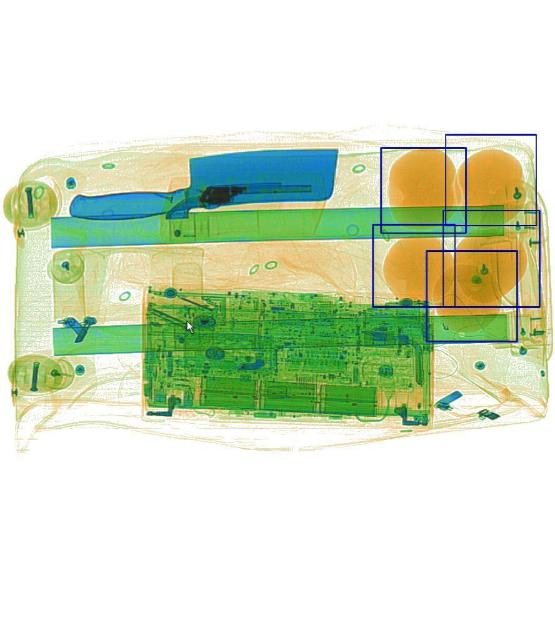Gun: (165, 180, 310, 220)
Knife: (68, 146, 337, 220)
